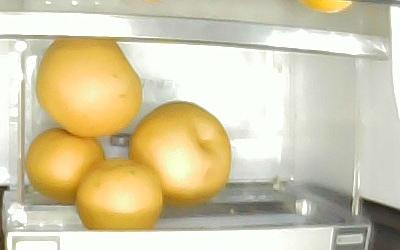pear: (130, 101, 232, 207), (35, 40, 143, 137), (75, 159, 164, 229), (25, 128, 106, 202)
